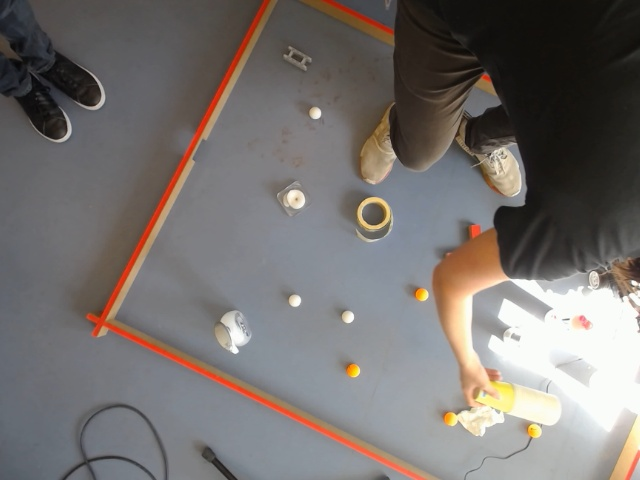orange: (215, 321, 229, 349), (413, 287, 430, 303), (345, 363, 361, 379), (527, 423, 541, 439), (443, 411, 457, 427)
robot: (0, 0, 120, 150)
white: (281, 185, 307, 218), (340, 309, 357, 326), (287, 293, 303, 310), (307, 105, 323, 122)
